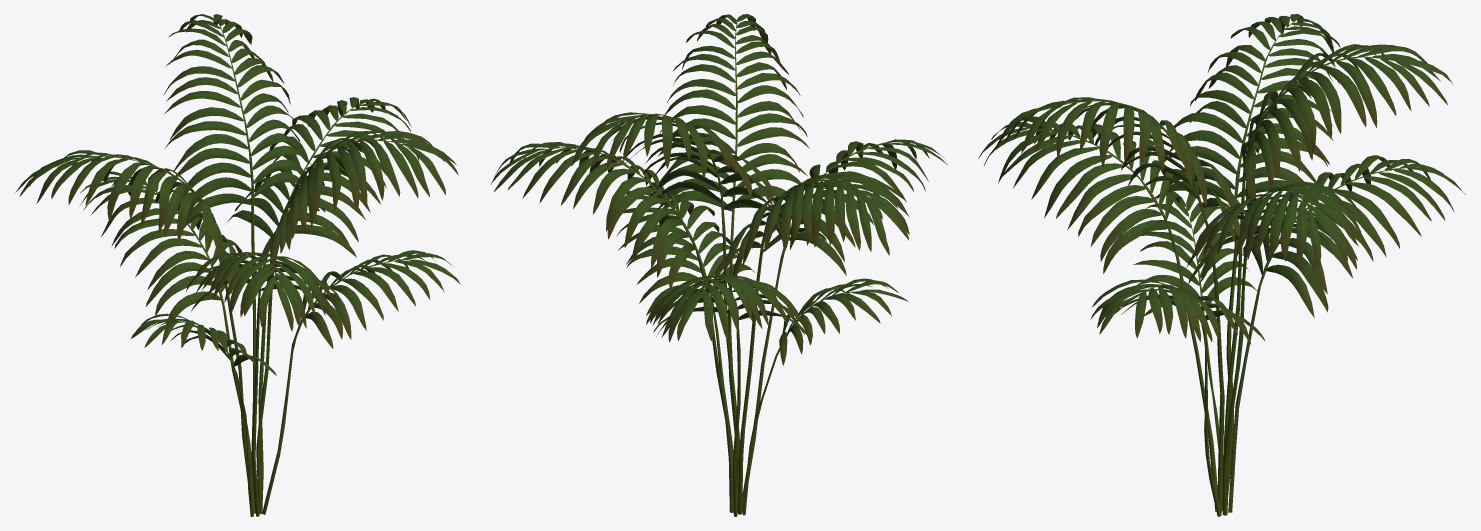
Rendered from howea_f_a002_lod1.gltf.
3 views of the same model, side by side, from view 1: azimuth 30°, elevation 25°; view 2: azimuth 150°, elevation 25°; view 3: azimuth 270°, elevation 25° (orthographic). The views are drawn at different scales.
Visible parts, largest first — view 1: Howea_f__A002; view 2: Howea_f__A002; view 3: Howea_f__A002.
Boxes of the visible parts, x1,y1,x2,y2 form: Howea_f__A002: [15, 14, 460, 516]; Howea_f__A002: [490, 14, 947, 516]; Howea_f__A002: [978, 14, 1465, 516].
Size of the model in its own units: 3.45 by 3.6 by 3.35.
Materials: 2 (2 with a texture image).
